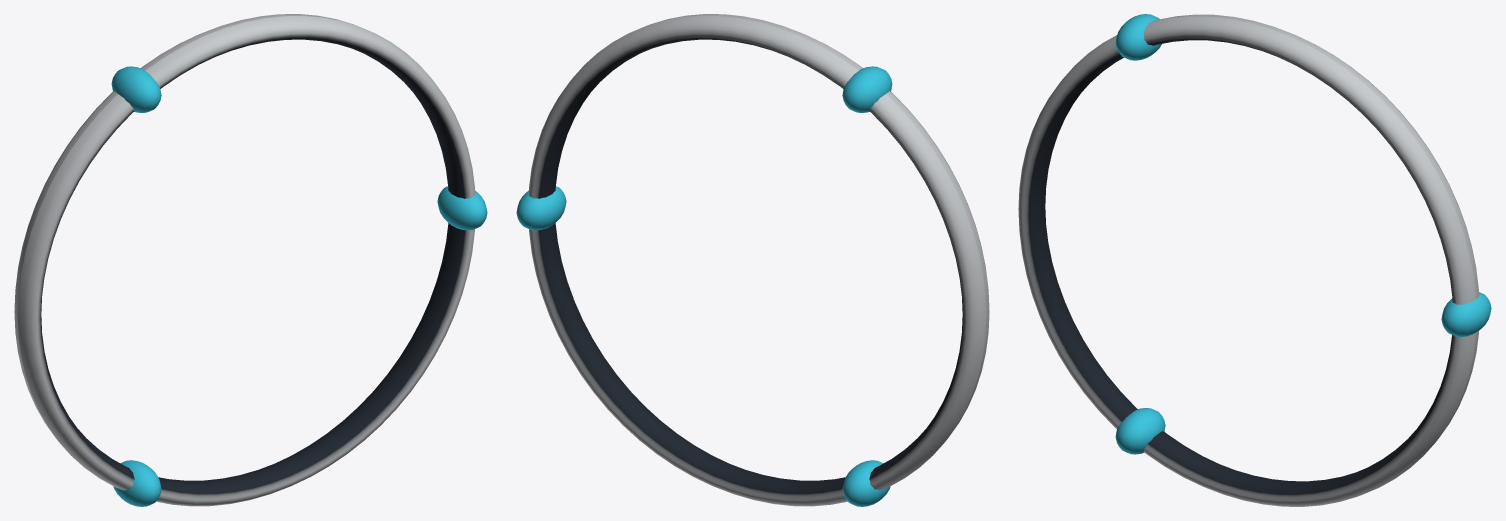
File: Enemy_Sentinel_Ring.fbx
The picture shows the model from 3 angles, left to right: view 1: azimuth 30°, elevation 25°; view 2: azimuth 150°, elevation 25°; view 3: azimuth 330°, elevation 25°; orthographic projection.
Visible parts, largest first — view 1: Enemy_Sentinel_Ring; view 2: Enemy_Sentinel_Ring; view 3: Enemy_Sentinel_Ring.
Boxes of the visible parts, box(x1,y1,x2,y2) form: Enemy_Sentinel_Ring: box(14, 14, 487, 506); Enemy_Sentinel_Ring: box(516, 14, 989, 506); Enemy_Sentinel_Ring: box(1018, 14, 1491, 506).
Bounding box in the file's own units: 2.51 × 2.47 × 0.32.
